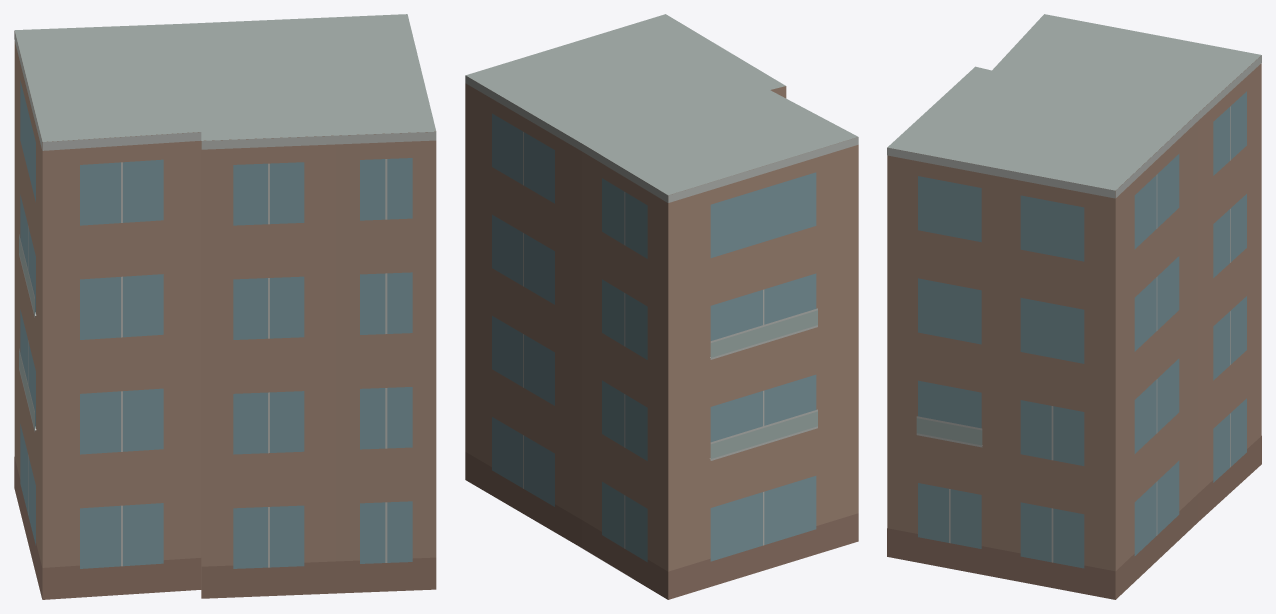
Rendered from survey-upis-32723670.glb.
3 views of the same model, side by side, from view 1: azimuth 30°, elevation 25°; view 2: azimuth 150°, elevation 25°; view 3: azimuth 270°, elevation 25° (orthographic). The views are drawn at different scales.
Parts seen in each view (by area): view 1: survey-upis-32723670.tmp; view 2: survey-upis-32723670.tmp; view 3: survey-upis-32723670.tmp.
Part boxes in pixels (<box>): survey-upis-32723670.tmp: <box>14,14,436,599</box>; survey-upis-32723670.tmp: <box>465,14,858,599</box>; survey-upis-32723670.tmp: <box>887,14,1261,599</box>.
Size of the model in its own units: 11.67 by 12.6 by 10.46.
